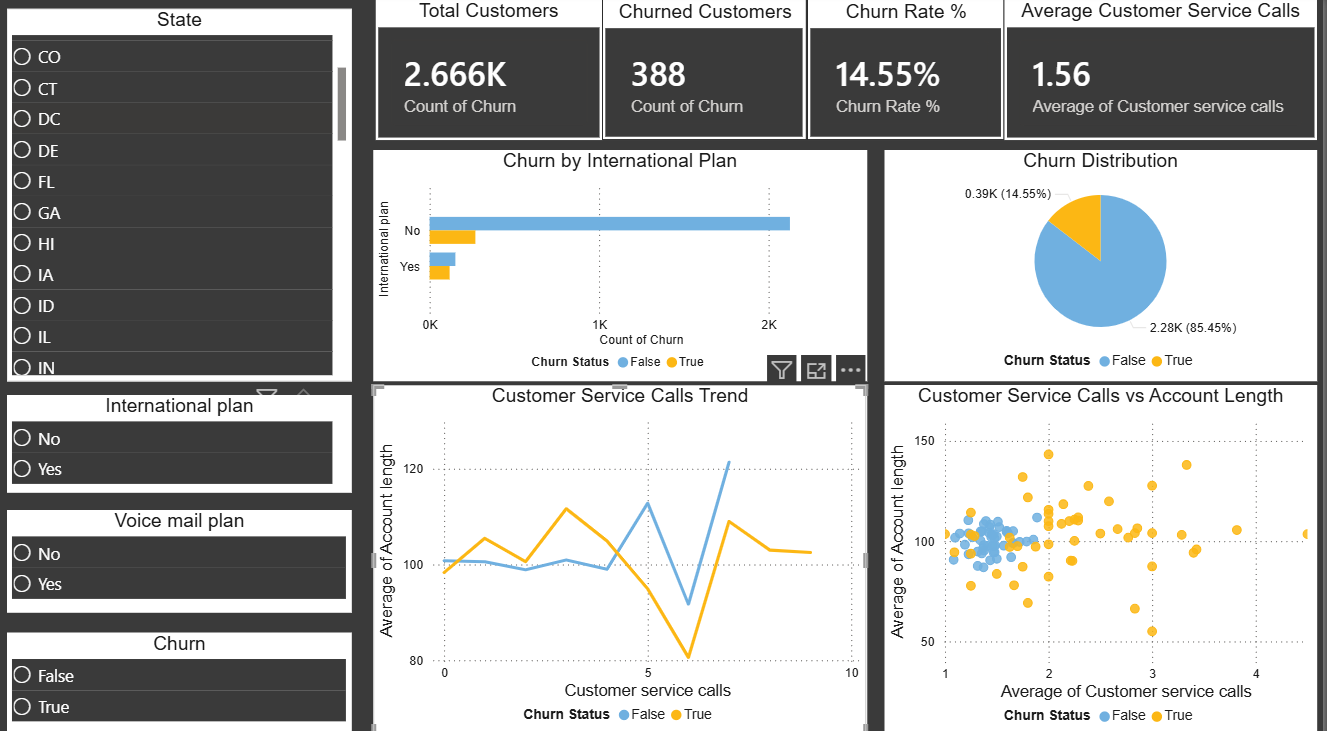

Layout of this report page (visuals, bound fields, positions):
{"tool":"powerbi","page":{"name":"Page 1","canvas":[1280,720],"ordinal":0},"visuals":[{"type":"cardVisual","title":"Total Customers","fields":{"Data":["CountNonNull(churn-bigml-80.Churn)"]},"box":[365.6,0,218.4,139.9],"z":0},{"type":"cardVisual","title":"Churned Customers","fields":{"Data":["CountNonNull(churn-bigml-80.Churn)"]},"box":[583.9,0,197.9,139.9],"z":1000},{"type":"cardVisual","title":"Churn Rate %","fields":{"Data":["churn-bigml-80.Churn Rate %"]},"box":[781.8,0,190.6,139.9],"z":2000},{"type":"cardVisual","title":"Average Customer Service Calls","fields":{"Data":["Avg(churn-bigml-80.Customer service calls)"]},"box":[972.4,0,301.6,139.9],"z":3000},{"type":"clusteredBarChart","title":"Churn by International Plan","fields":{"Category":["churn-bigml-80.International plan"],"Y":["CountNonNull(churn-bigml-80.Churn)"],"Series":["churn-bigml-80.Churn"]},"box":[363.1,149.6,476.5,223.2],"z":4000},{"type":"pieChart","title":"Churn Distribution","fields":{"Category":["churn-bigml-80.Churn"],"Y":["CountNonNull(churn-bigml-80.Churn)"]},"box":[856.6,149.6,417.4,223.2],"z":5000},{"type":"lineChart","title":"Customer Service Calls Trend","fields":{"Series":["churn-bigml-80.Churn"],"Category":["churn-bigml-80.Customer service calls"],"Y":["Avg(churn-bigml-80.Account length)"]},"box":[363.1,376.4,476.5,337.8],"z":6000},{"type":"listSlicer","title":"State","fields":{"Values":["churn-bigml-80.State"]},"box":[9.7,13.3,333,359.5],"z":7000},{"type":"scatterChart","title":"Customer Service Calls vs Account Length","fields":{"Series":["churn-bigml-80.Churn"],"Category":["churn-bigml-80.State"],"Y":["Avg(churn-bigml-80.Account length)"],"X":["Avg(churn-bigml-80.Customer service calls)"]},"box":[856.6,376.4,417.4,339],"z":8000},{"type":"listSlicer","title":"Churn","fields":{"Values":["churn-bigml-80.Churn"]},"box":[9.7,615.3,333,98.9],"z":9000},{"type":"listSlicer","title":"Voice mail plan","fields":{"Values":["churn-bigml-80.Voice mail plan"]},"box":[9.7,497.1,333,98.9],"z":10000},{"type":"listSlicer","title":"International plan","fields":{"Values":["churn-bigml-80.International plan"]},"box":[9.7,386.1,333,94.1],"z":10001}]}

Visuals, with their boxes in screenshot pixels (x1, y1, x2, y2), scaled from the page's 1280x720 canvas onto the 1327x731 screenshot:
"Total Customers" cardVisual: pyautogui.locateOnScreen(379, 0, 605, 142)
"Churned Customers" cardVisual: pyautogui.locateOnScreen(605, 0, 811, 142)
"Churn Rate %" cardVisual: pyautogui.locateOnScreen(811, 0, 1008, 142)
"Average Customer Service Calls" cardVisual: pyautogui.locateOnScreen(1008, 0, 1321, 142)
"Churn by International Plan" clusteredBarChart: pyautogui.locateOnScreen(376, 152, 870, 378)
"Churn Distribution" pieChart: pyautogui.locateOnScreen(888, 152, 1321, 378)
"Customer Service Calls Trend" lineChart: pyautogui.locateOnScreen(376, 382, 870, 725)
"State" listSlicer: pyautogui.locateOnScreen(10, 14, 355, 378)
"Customer Service Calls vs Account Length" scatterChart: pyautogui.locateOnScreen(888, 382, 1321, 726)
"Churn" listSlicer: pyautogui.locateOnScreen(10, 625, 355, 725)
"Voice mail plan" listSlicer: pyautogui.locateOnScreen(10, 505, 355, 605)
"International plan" listSlicer: pyautogui.locateOnScreen(10, 392, 355, 488)
